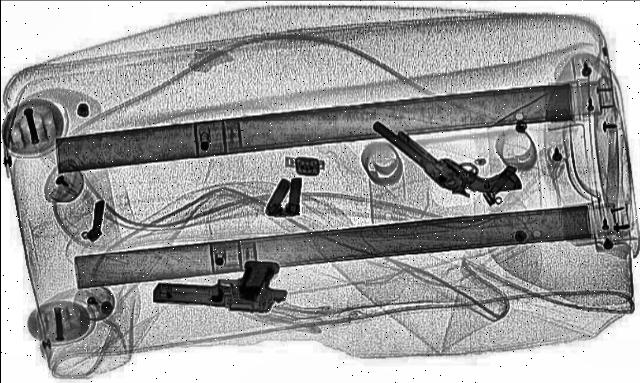Gun: (366, 100, 536, 208), (150, 252, 296, 314)
